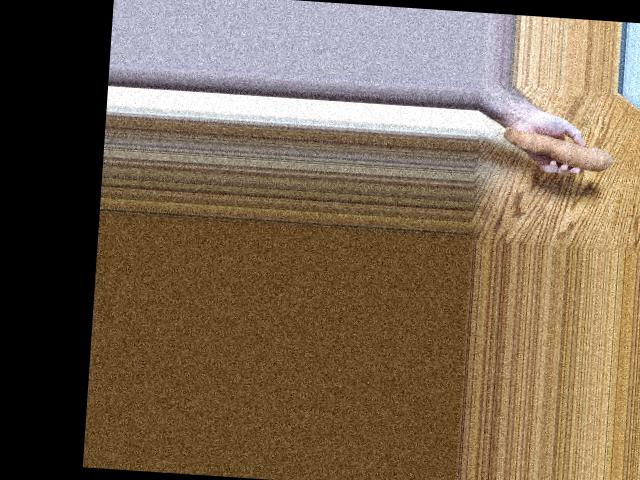sweet_potato: (507, 123, 620, 178)
